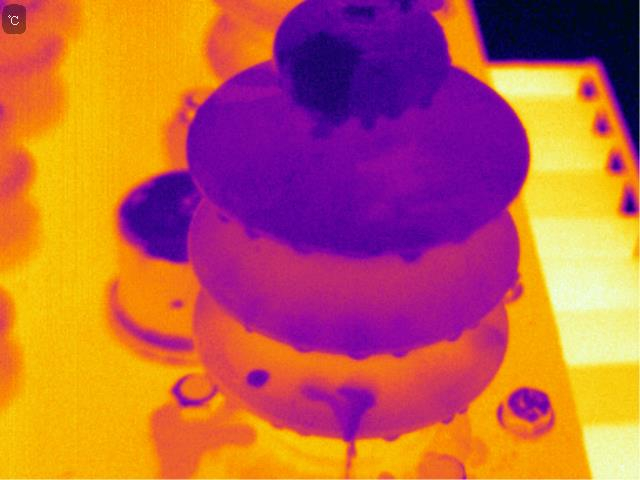Water: (279, 34, 360, 142), (302, 379, 371, 475), (232, 366, 278, 396), (389, 235, 426, 268), (333, 340, 377, 367), (286, 236, 317, 262), (360, 235, 386, 266), (287, 336, 316, 358), (385, 341, 415, 361), (238, 315, 261, 339), (384, 101, 409, 123), (265, 415, 289, 437), (443, 325, 463, 351), (362, 110, 380, 138), (379, 428, 403, 447), (417, 90, 436, 112), (455, 398, 474, 420), (439, 410, 454, 427)
